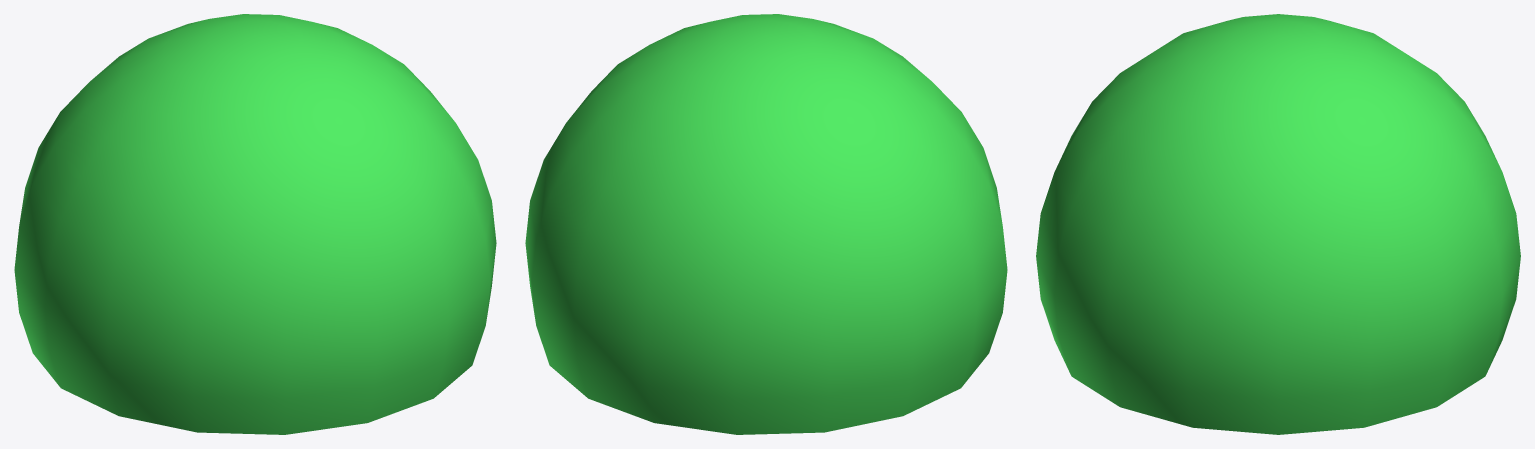
3 renders of one model, left to right at view 1: azimuth 30°, elevation 25°; view 2: azimuth 150°, elevation 25°; view 3: azimuth 270°, elevation 25°, orthographic.
Parts seen in each view (by area): view 1: Sphere; view 2: Sphere; view 3: Sphere.
Part boxes in pixels (box(x1,y1,x2,y2)): Sphere: box(14, 14, 496, 434); Sphere: box(525, 14, 1007, 434); Sphere: box(1036, 14, 1520, 434).
Bounding box in the file's own units: 200 × 138 × 200.
